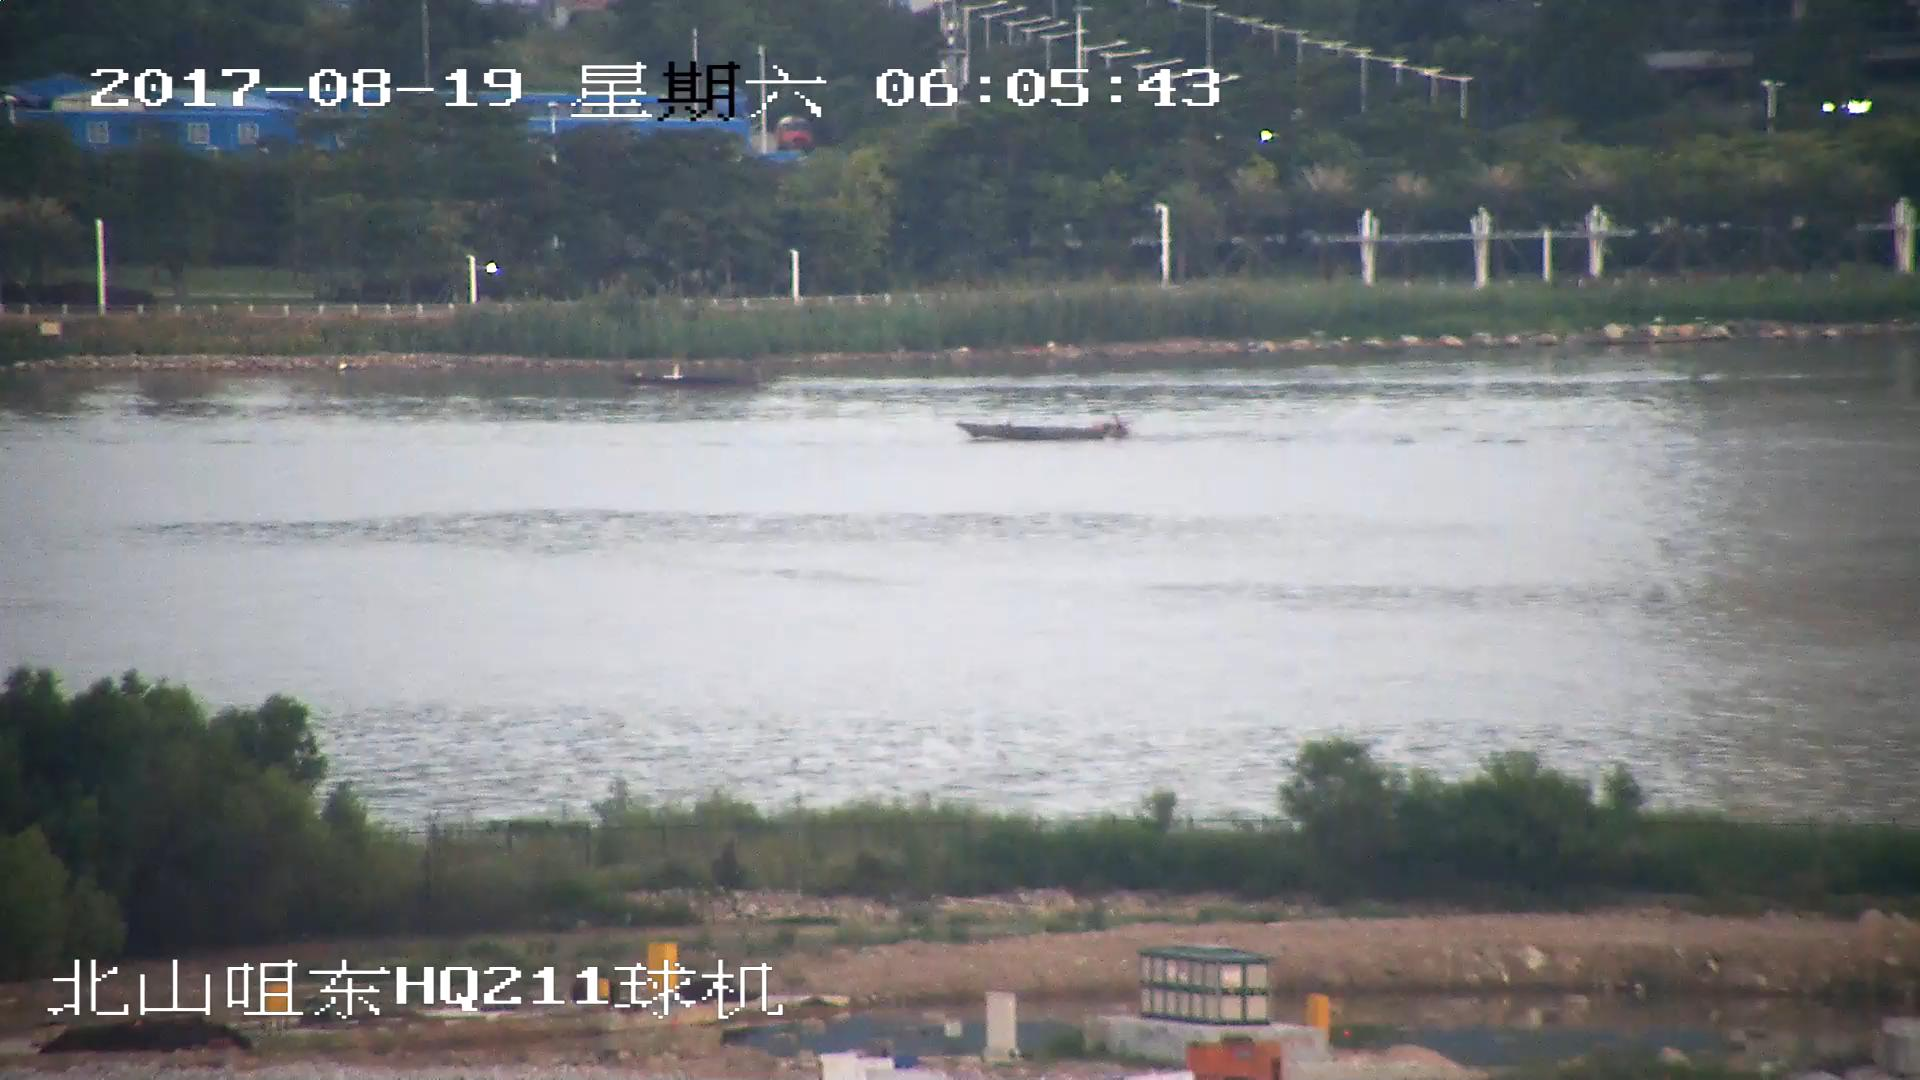fishing boat: (954, 415, 1137, 441)
